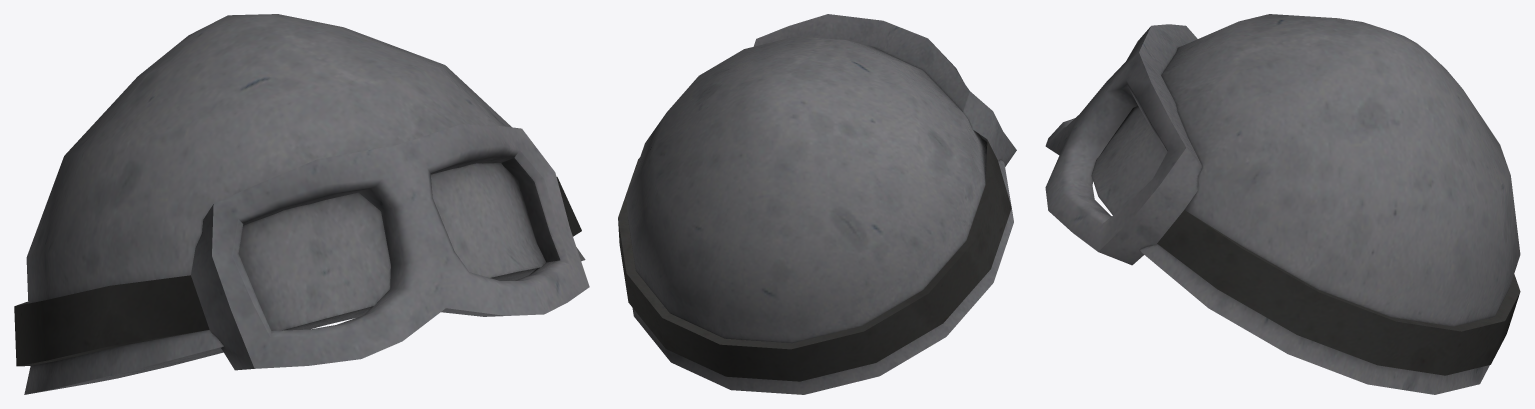
Rendered from Players_hat_6.FBX.
3 renders of one model, left to right at view 1: azimuth 30°, elevation 25°; view 2: azimuth 150°, elevation 25°; view 3: azimuth 270°, elevation 25°, orthographic. The views are drawn at different scales.
Parts seen in each view (by area): view 1: Players_hat_10; view 2: Players_hat_10; view 3: Players_hat_10.
Part boxes in pixels (x1,y1,x2,y2): Players_hat_10: (14, 14, 589, 394); Players_hat_10: (618, 14, 1016, 394); Players_hat_10: (1045, 14, 1520, 394).
Size of the model in its own units: 14.44 by 10.79 by 14.5.
